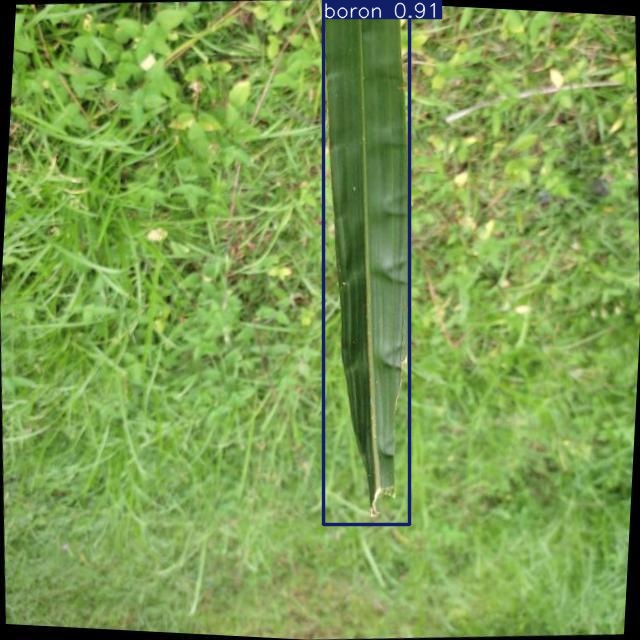nitrogen: (323, 0, 410, 524)
